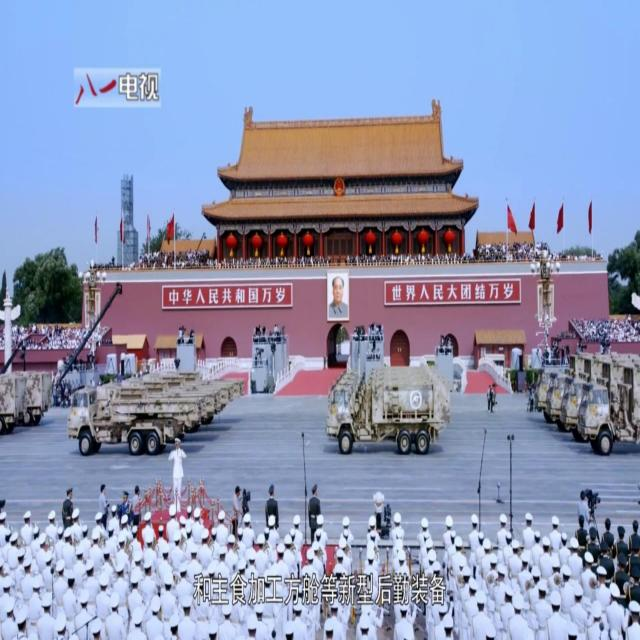Soldier: (164, 432, 192, 523)
